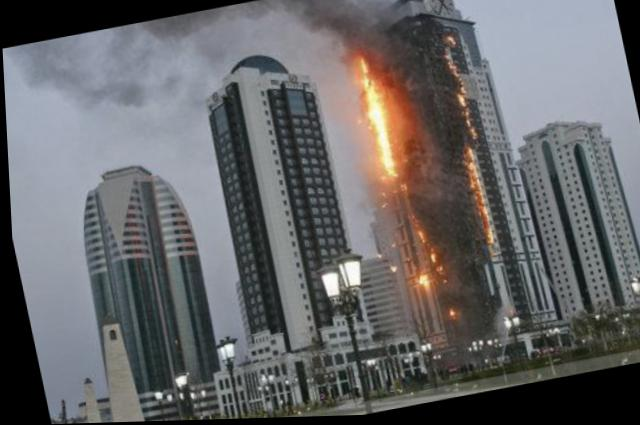fire: (355, 53, 400, 185), (462, 146, 491, 248), (461, 94, 478, 144), (412, 269, 434, 291), (428, 247, 443, 276), (415, 226, 425, 246), (448, 36, 459, 48), (445, 307, 454, 319)
